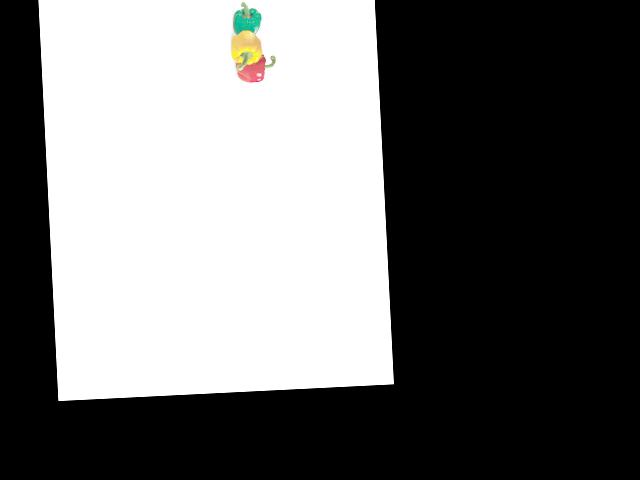bell_pepper: (229, 2, 265, 39)
